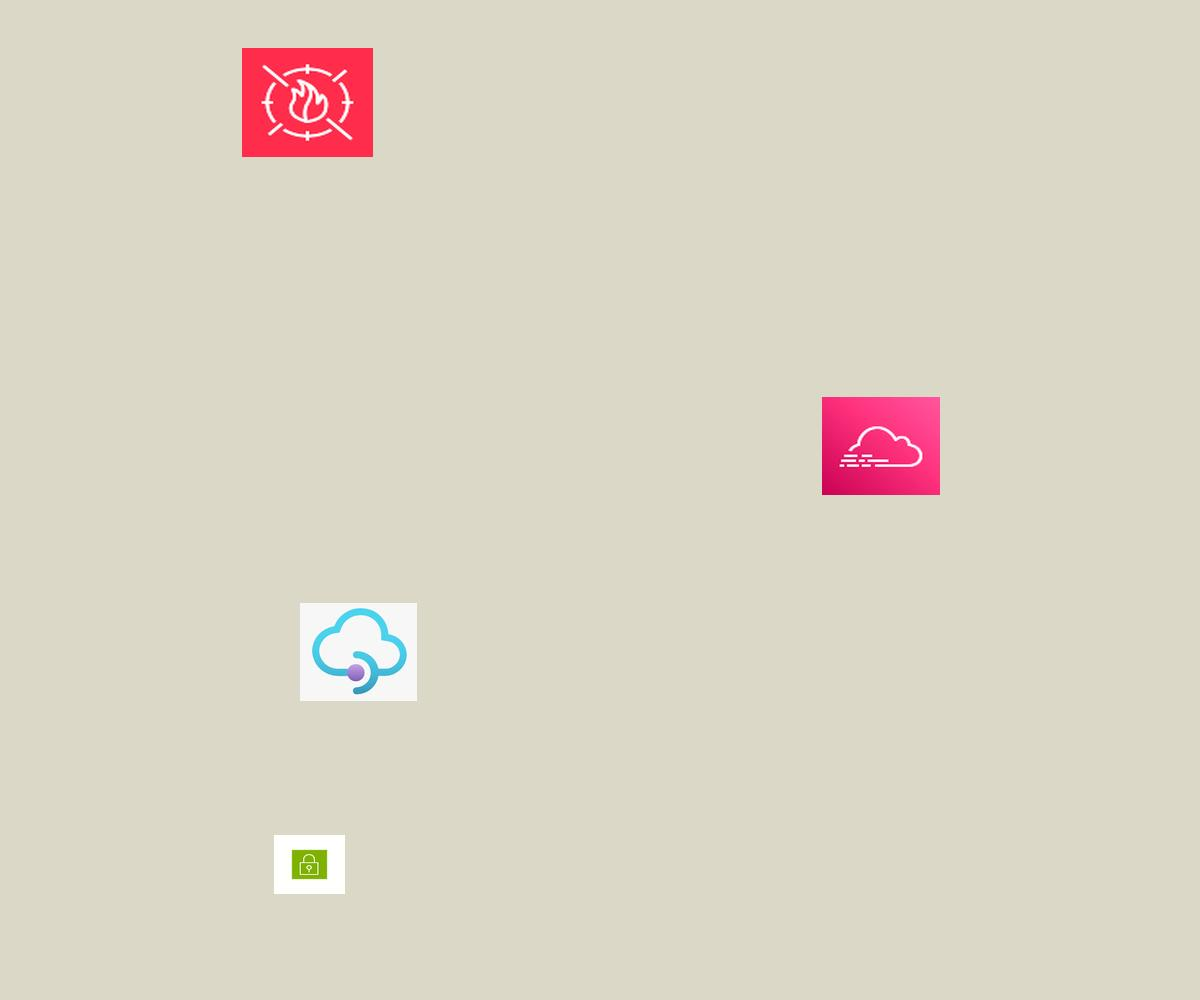AWS-CloudTrail: (822, 397, 940, 495)
AWS-Public-subnet: (274, 835, 345, 894)
AWS-WAF: (242, 48, 373, 157)
Azure_api_gateway: (300, 603, 417, 701)
